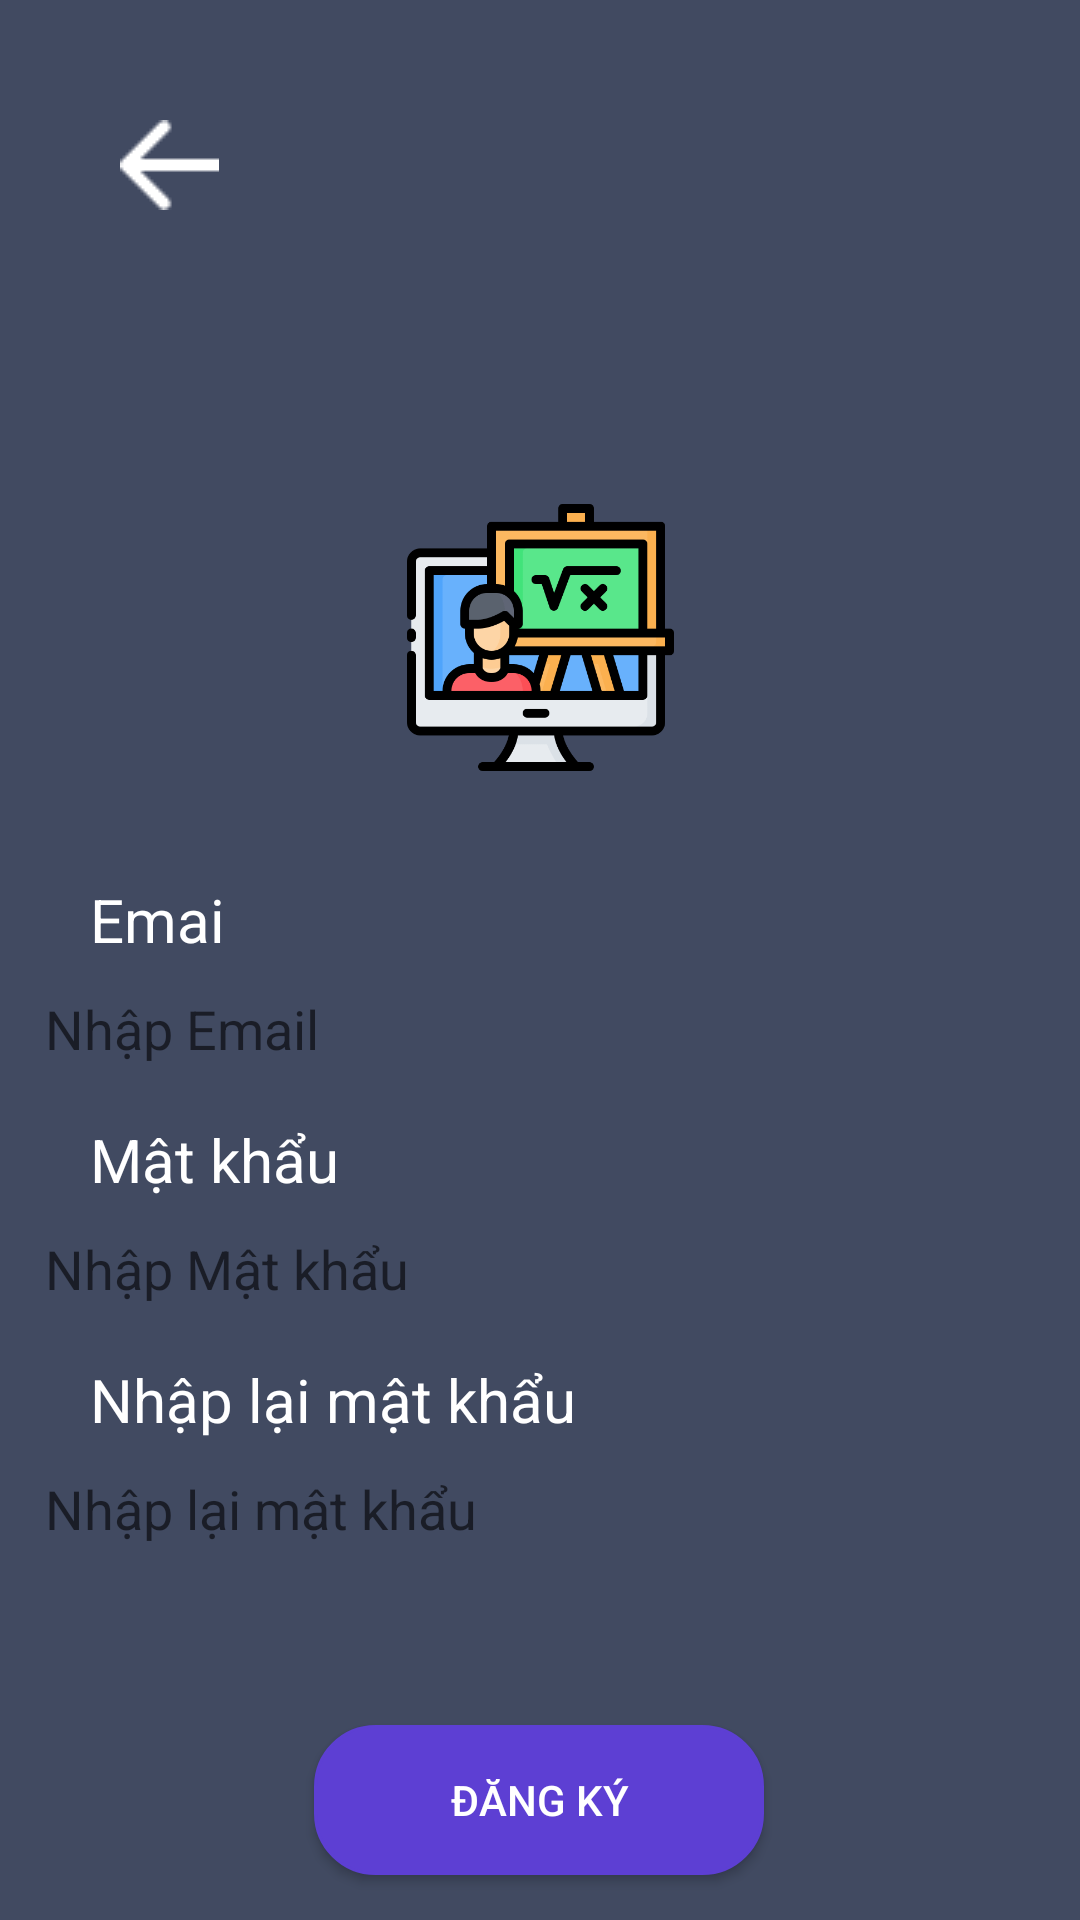

Locate icon controls on the screen. Image size 1080*1920, boxes as (left=x1, top=y1, right=x2, bottom=y2).
arrow: (left=120, top=120, right=219, bottom=210)
online class: (left=407, top=504, right=674, bottom=771)
